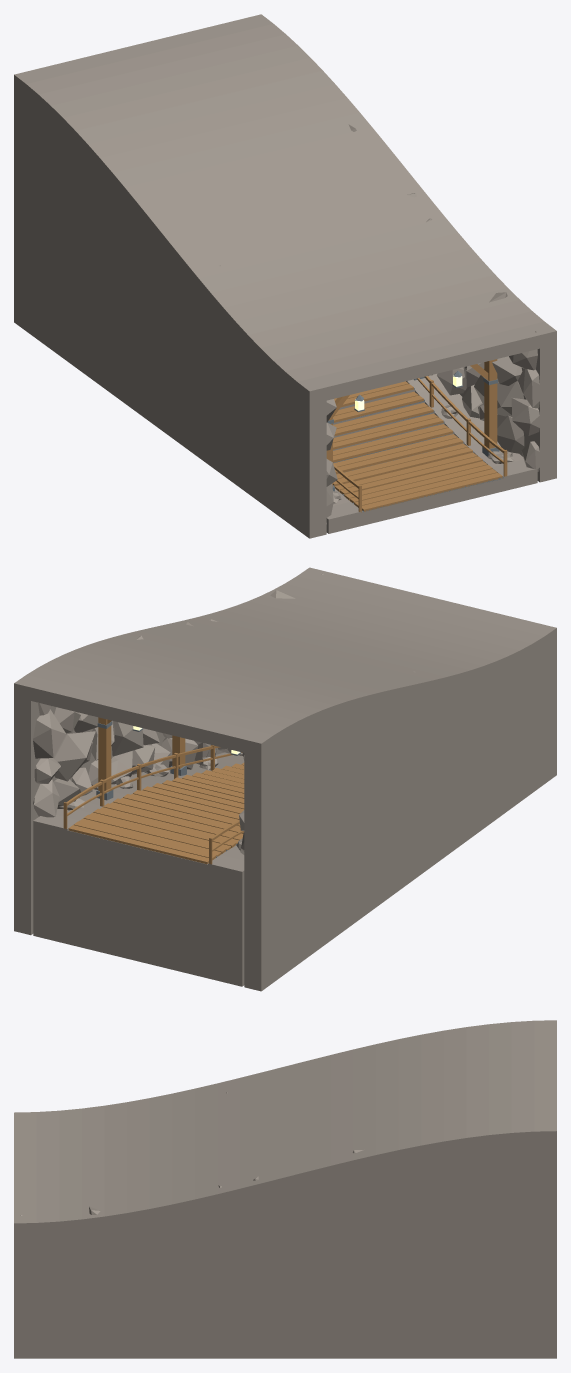
The model's file is MineStair.fbx.
3 renders of one model, top to bottom at view 1: azimuth 30°, elevation 25°; view 2: azimuth 150°, elevation 25°; view 3: azimuth 270°, elevation 25°, orthographic. The views are drawn at different scales.
Parts seen in each view (by area): view 1: MineStair; view 2: MineStair; view 3: MineStair.
Boxes of the visible parts, bbox=[...] form: MineStair: bbox=[14, 14, 556, 538]; MineStair: bbox=[14, 567, 556, 991]; MineStair: bbox=[14, 1020, 556, 1358].
Bounding box in the file's own units: 11.6 × 11.1 × 24.
